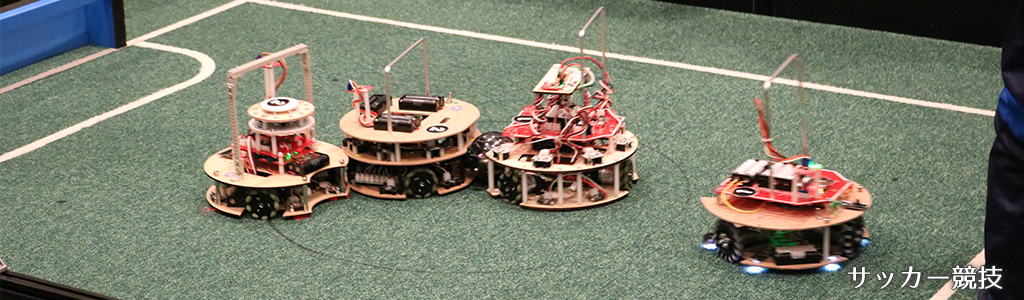Goal: (1, 1, 132, 77)
Robot: (699, 37, 871, 278), (487, 3, 639, 212), (207, 36, 348, 222), (342, 27, 481, 199)
